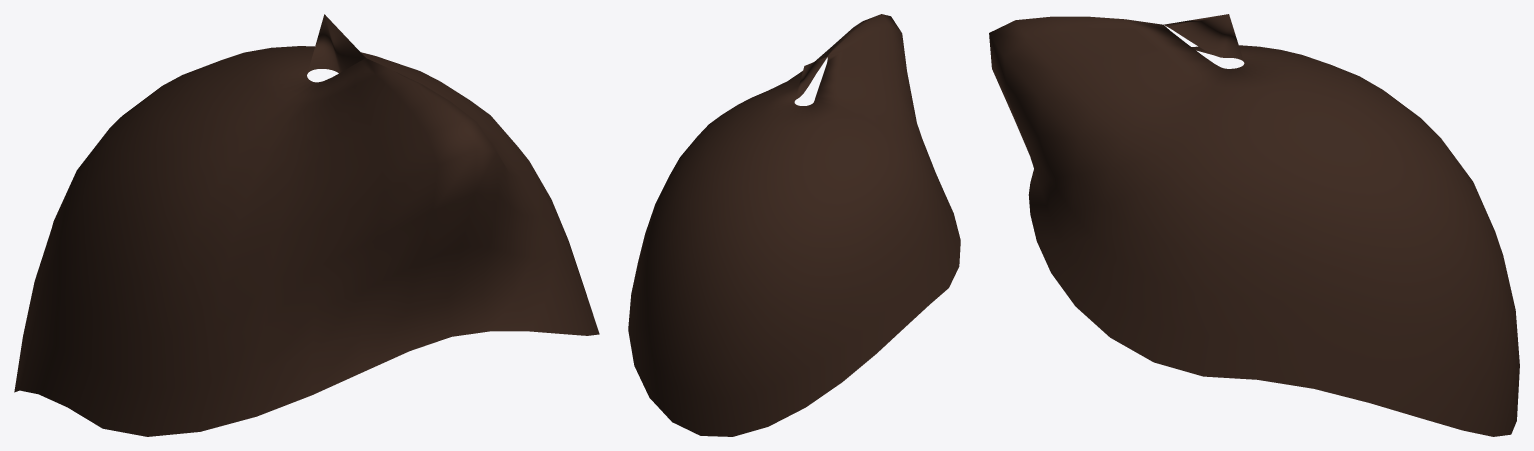
The model's file is quiff.glb.
The picture shows the model from 3 angles, left to right: view 1: azimuth 30°, elevation 25°; view 2: azimuth 150°, elevation 25°; view 3: azimuth 270°, elevation 25°; orthographic projection. The views are drawn at different scales.
Parts seen in each view (by area): view 1: hair-quiff; view 2: hair-quiff; view 3: hair-quiff.
Boxes of the visible parts, x1,y1,x2,y2 form: hair-quiff: [14, 14, 599, 436]; hair-quiff: [628, 14, 960, 436]; hair-quiff: [989, 14, 1519, 436].
Size of the model in its own units: 0.1606 by 0.1661 by 0.1964.
